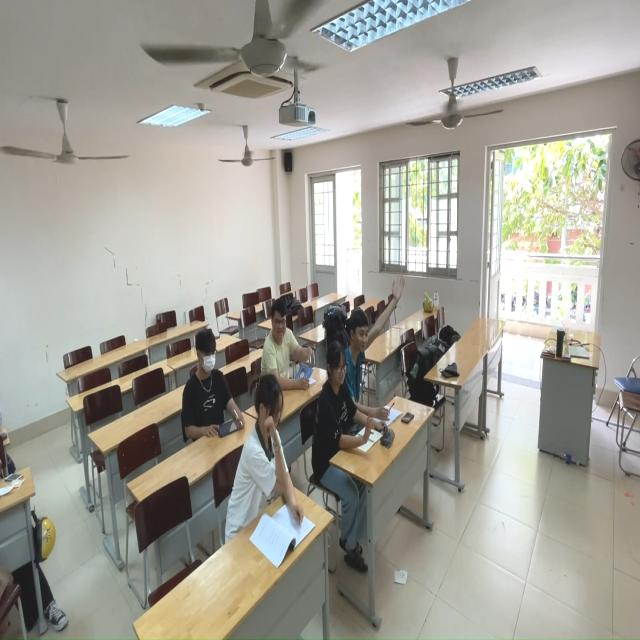raise_hand: (226, 373, 307, 529), (341, 240, 407, 415), (316, 339, 390, 455)
read: (182, 334, 238, 453), (261, 304, 318, 395)
